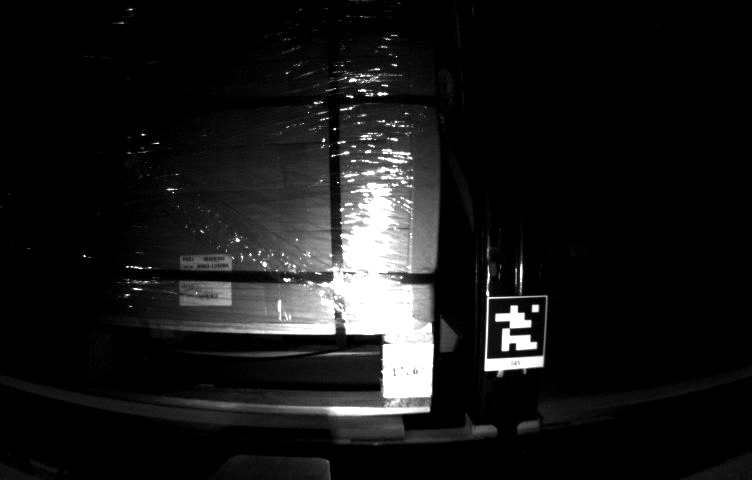True Barcode: (180, 254, 235, 308)
